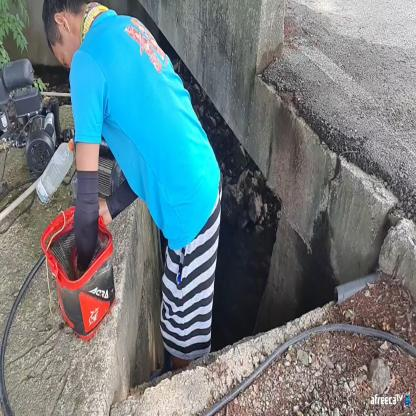streamer: (42, 0, 222, 362)
